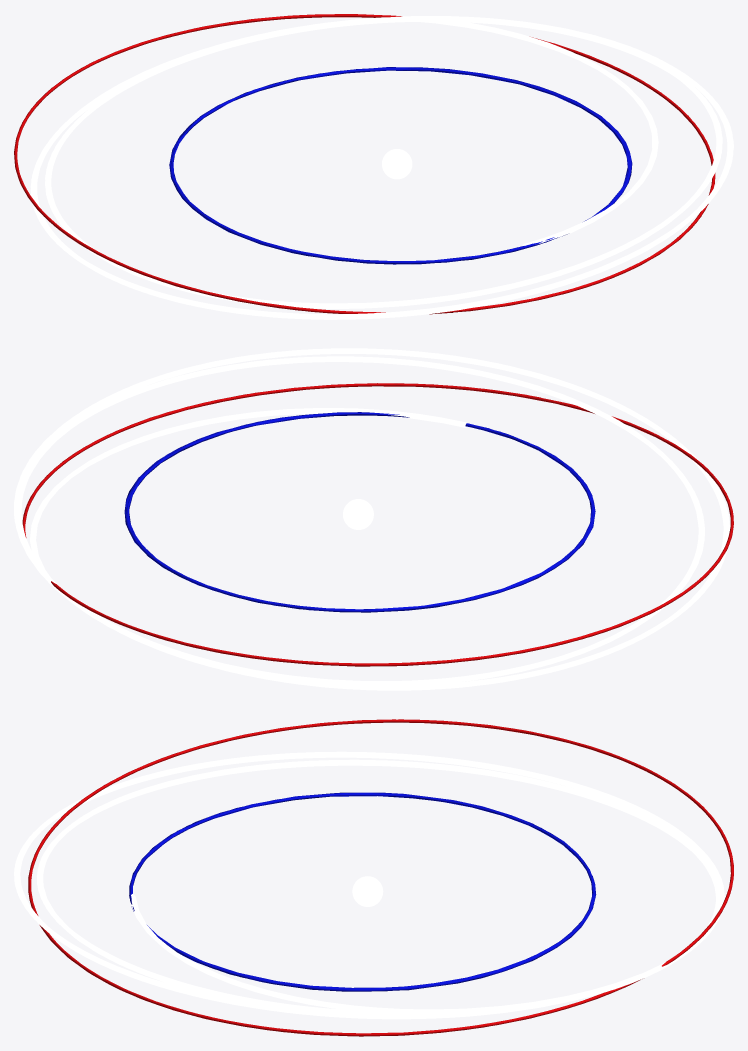
The model's file is Remuslowpolywhite.glb.
The picture shows the model from 3 angles, top to bottom: view 1: azimuth 30°, elevation 25°; view 2: azimuth 150°, elevation 25°; view 3: azimuth 270°, elevation 25°; orthographic projection.
Parts seen in each view (by area): view 1: Remus Trajectory, Mars Trajectory, Earth Trajectory, Sphere; view 2: Remus Trajectory, Mars Trajectory, Earth Trajectory, Sphere; view 3: Remus Trajectory, Mars Trajectory, Earth Trajectory, Sphere.
Boxes of the visible parts, x1=… form: Remus Trajectory: x1=30, y1=16, x2=733, y2=319; Mars Trajectory: x1=14, y1=14, x2=715, y2=314; Earth Trajectory: x1=169, y1=67, x2=632, y2=264; Sphere: x1=382, y1=149, x2=412, y2=179; Remus Trajectory: x1=14, y1=348, x2=729, y2=690; Mars Trajectory: x1=22, y1=383, x2=733, y2=666; Earth Trajectory: x1=124, y1=412, x2=595, y2=612; Sphere: x1=343, y1=499, x2=373, y2=529; Remus Trajectory: x1=14, y1=751, x2=724, y2=1019; Mars Trajectory: x1=28, y1=719, x2=733, y2=1036; Earth Trajectory: x1=129, y1=792, x2=596, y2=991; Sphere: x1=352, y1=876, x2=383, y2=906.
Size of the model in its own units: 467 by 34.09 by 465.
